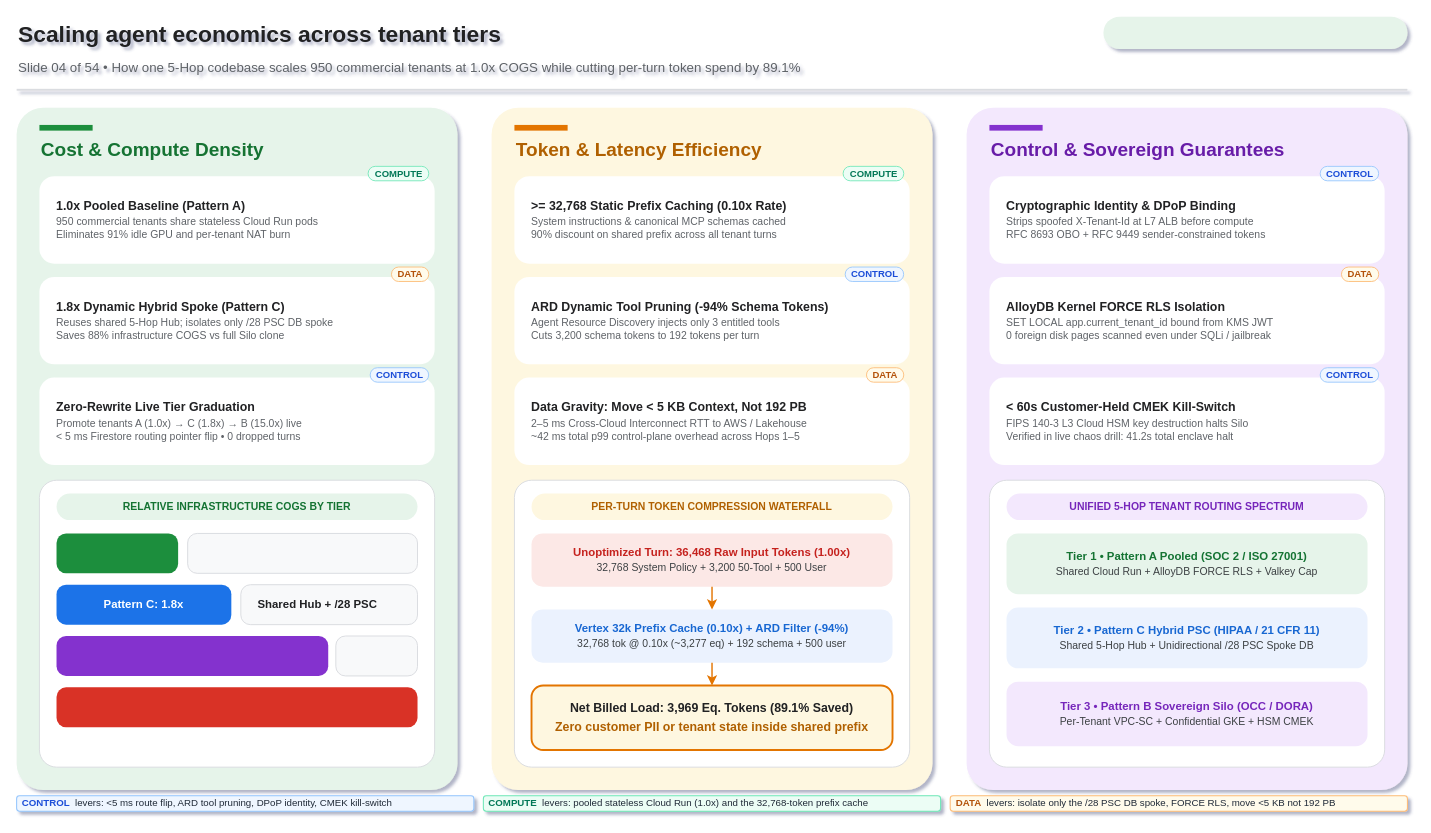
Image size: 1431x833. Some labels were removed from this diagram. Each missing label, with the centre of its shape:
"950 Pooled Tenants (Base)" belongs at point 302,552.
"Anti-Pattern Naive Silo Sprawl: 15.0x (91% Idle Waste)" belongs at point 236,707.
"Enclave" belongs at point 376,655.
"FINOPS • 950 TENANTS • 89.1% SAVED" belongs at point 1255,32.
"Pattern A: 1.0x" belongs at point 117,553.
"Pattern B Silo: 15.0x" belongs at point 192,655.
